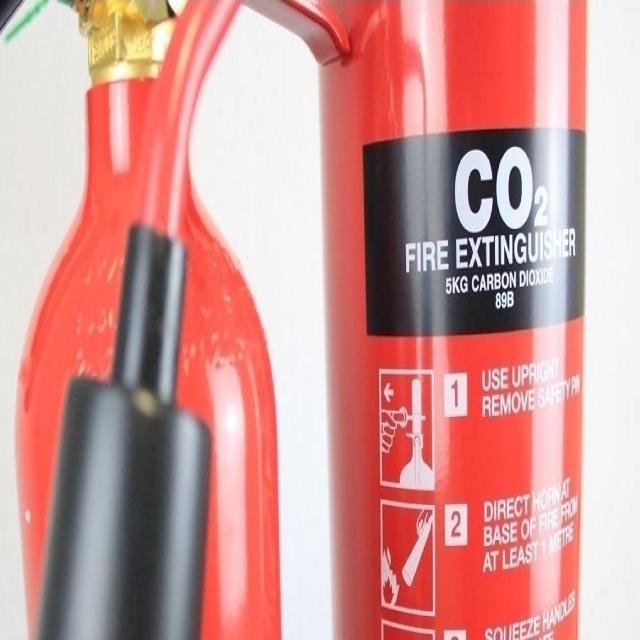fire_extinguisher: (29, 0, 591, 636), (0, 0, 286, 637)
